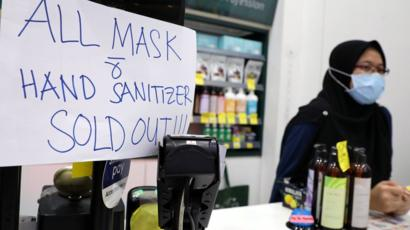Mask: (347, 49, 388, 107)
